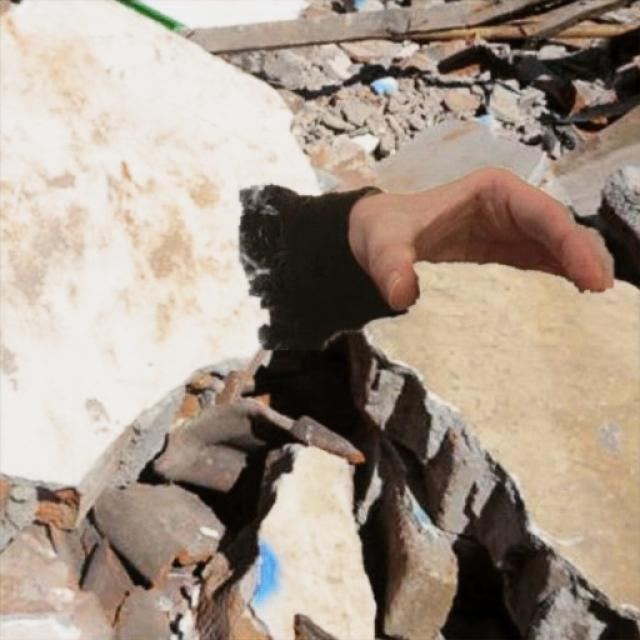Person in Rubble: (238, 166, 612, 349)
